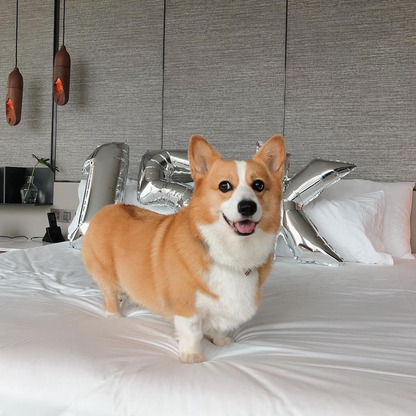Corgi: (77, 133, 300, 367)
